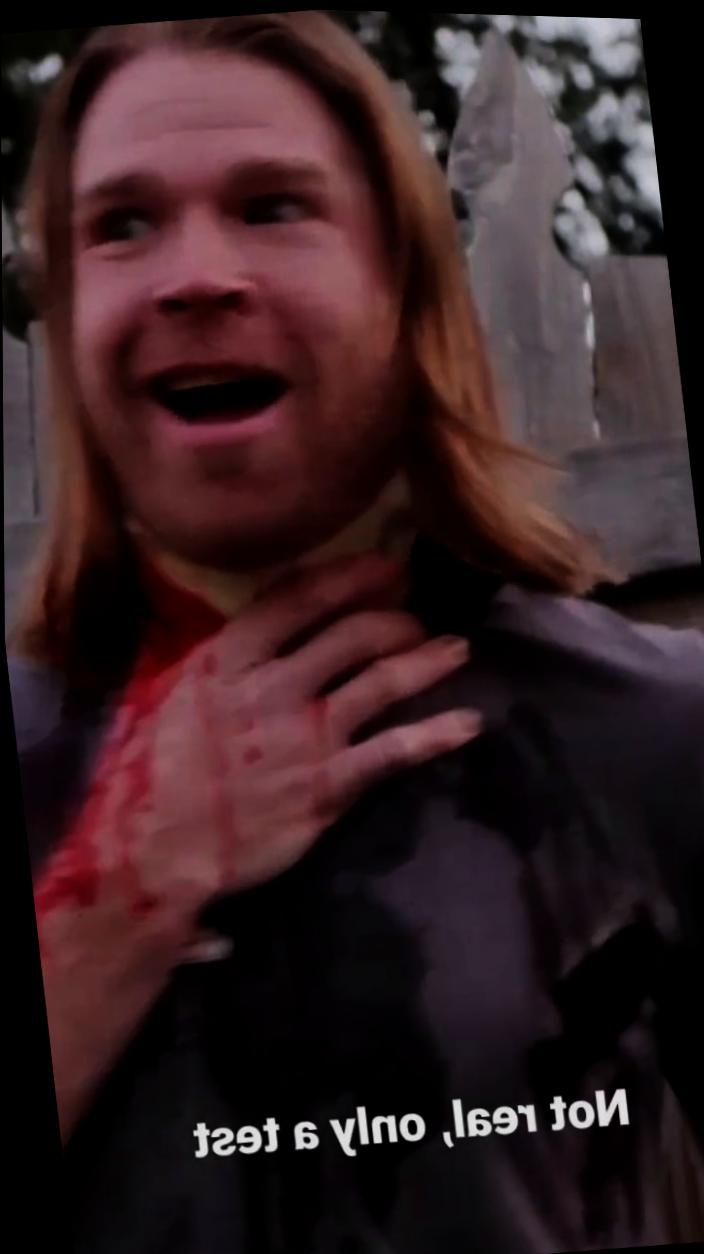Fire: (31, 566, 426, 965)
